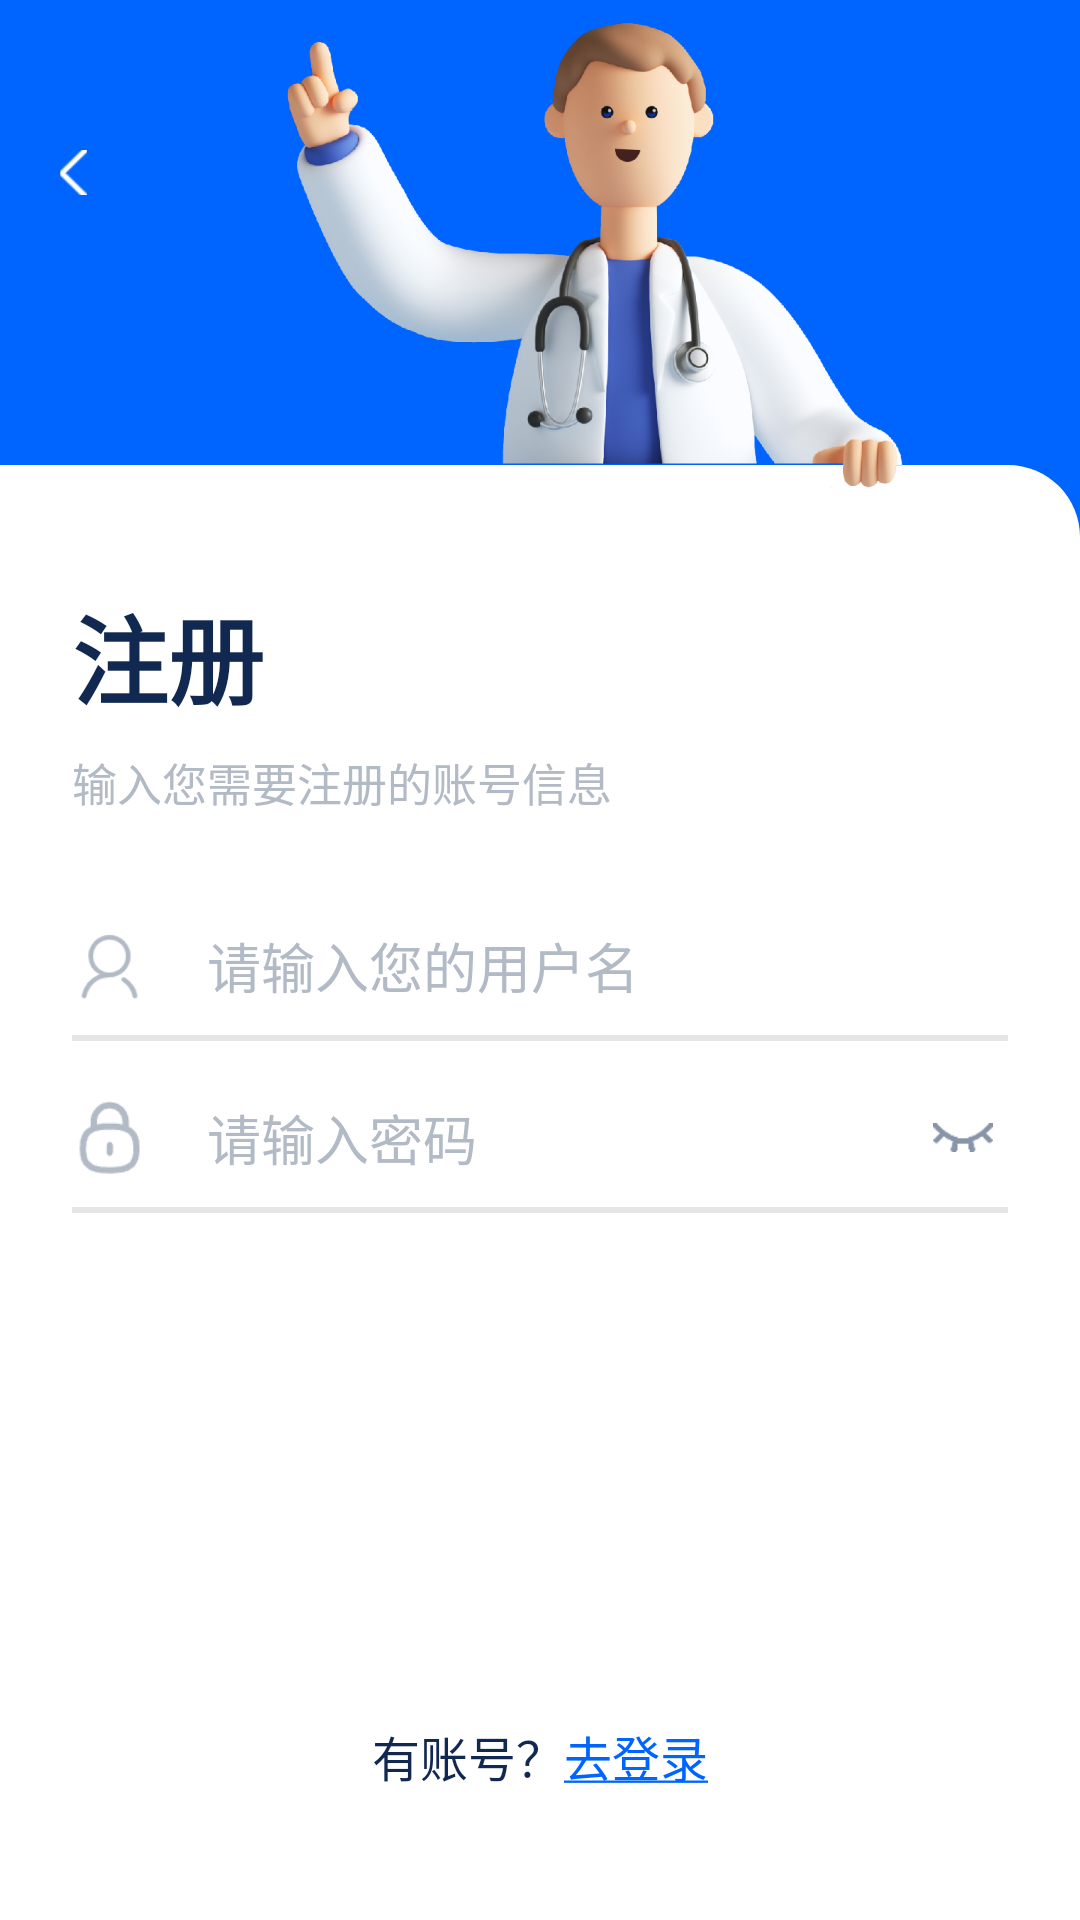

Locate icon controls on the screen. Image size 1080x1920, boxes as (x1, y1, x2, y2).
login account: (81, 935, 138, 998)
login pwd: (79, 1102, 140, 1174)
return: (60, 150, 87, 195)
sel pwd open close: (933, 1123, 993, 1152)
